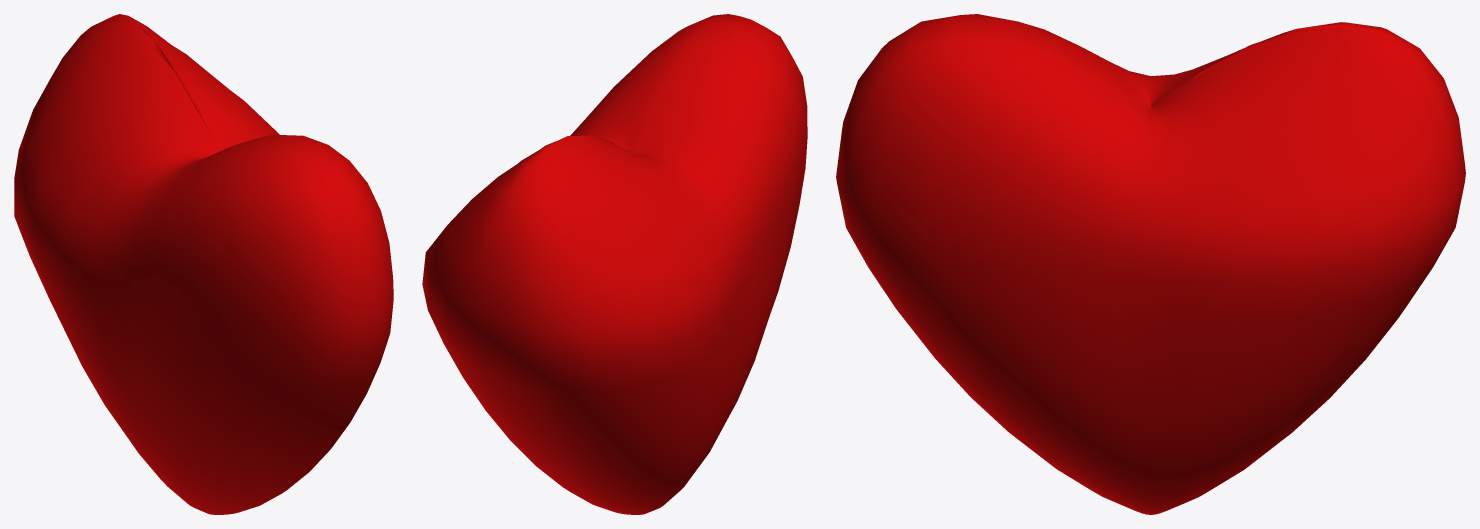
Rendered from Heart.fbx.
3 views of the same model, side by side, from view 1: azimuth 30°, elevation 25°; view 2: azimuth 150°, elevation 25°; view 3: azimuth 270°, elevation 25° (orthographic). The views are drawn at different scales.
Visible parts, largest first — view 1: SurfSphere; view 2: SurfSphere; view 3: SurfSphere.
Boxes of the visible parts, bbox=[...] form: SurfSphere: bbox=[14, 14, 393, 514]; SurfSphere: bbox=[422, 14, 807, 514]; SurfSphere: bbox=[836, 14, 1465, 514].
Bounding box in the file's own units: 120 × 197 × 232.
